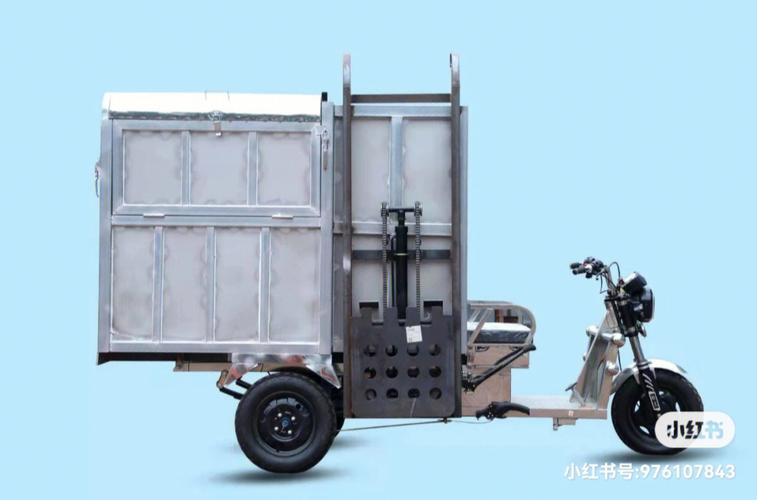empty: (62, 38, 716, 480)
